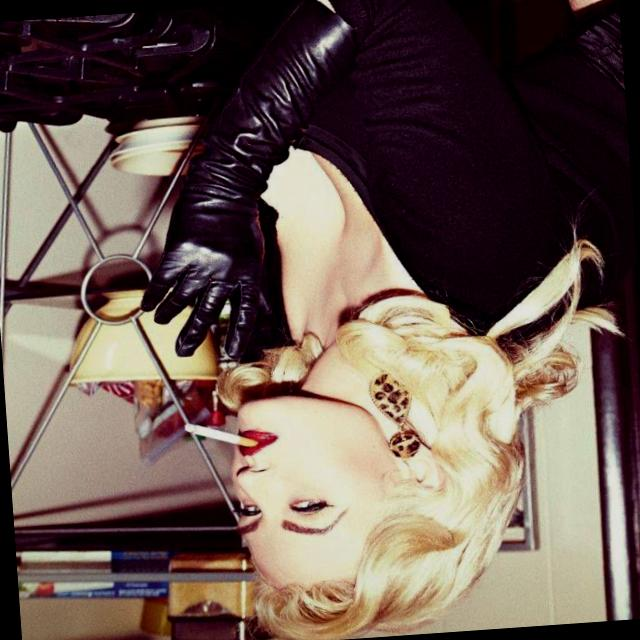cigarette: (161, 405, 267, 468)
